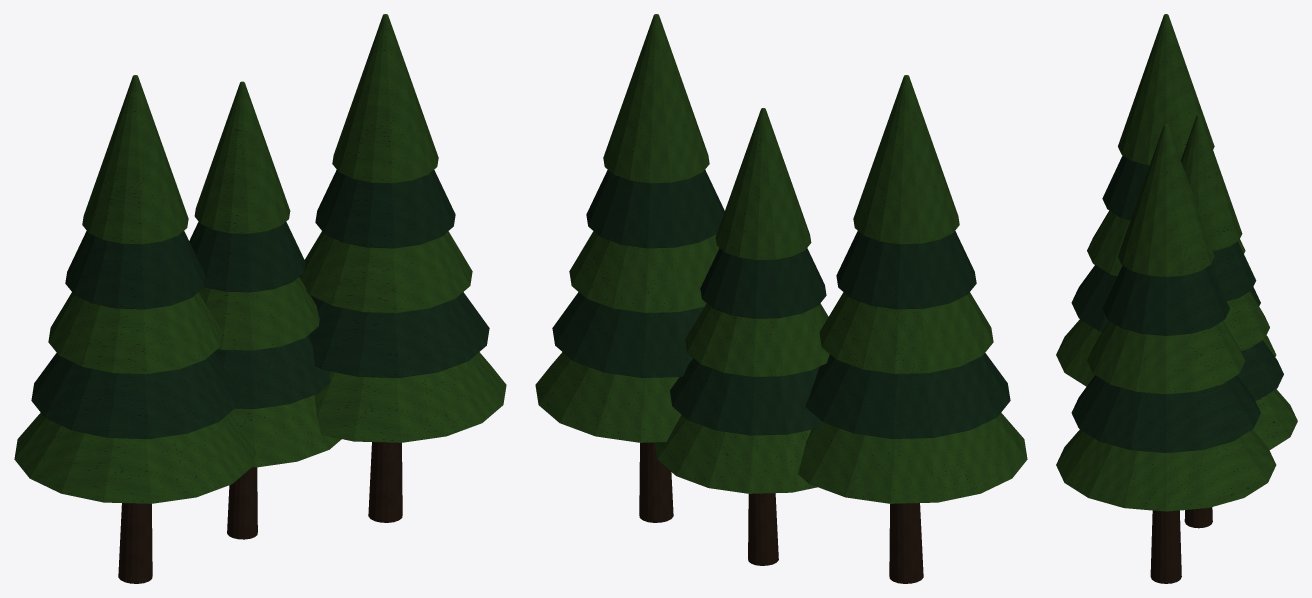
File: PROP-718FCA933D52_lod0.glb
3 views of the same model, side by side, from view 1: azimuth 30°, elevation 25°; view 2: azimuth 150°, elevation 25°; view 3: azimuth 270°, elevation 25° (orthographic). The views are drawn at different scales.
Parts seen in each view (by area): view 1: layered_conifer_crown.022, layered_conifer_crown.023, trunk.012; view 2: layered_conifer_crown.022, layered_conifer_crown.023, trunk.012; view 3: layered_conifer_crown.022, layered_conifer_crown.023, trunk.012.
Part boxes in pixels (box(x1,y1,x2,y2)): layered_conifer_crown.022: box(14, 14, 506, 503); layered_conifer_crown.023: box(31, 170, 489, 438); trunk.012: box(118, 442, 402, 583); layered_conifer_crown.022: box(535, 14, 1027, 503); layered_conifer_crown.023: box(552, 170, 1010, 438); trunk.012: box(639, 442, 923, 583); layered_conifer_crown.022: box(1056, 14, 1297, 511); layered_conifer_crown.023: box(1071, 155, 1283, 452); trunk.012: box(1150, 507, 1212, 583).
Bounding box in the file's own units: 7.38 × 7.67 × 3.71.
3 materials, 3 textured.
